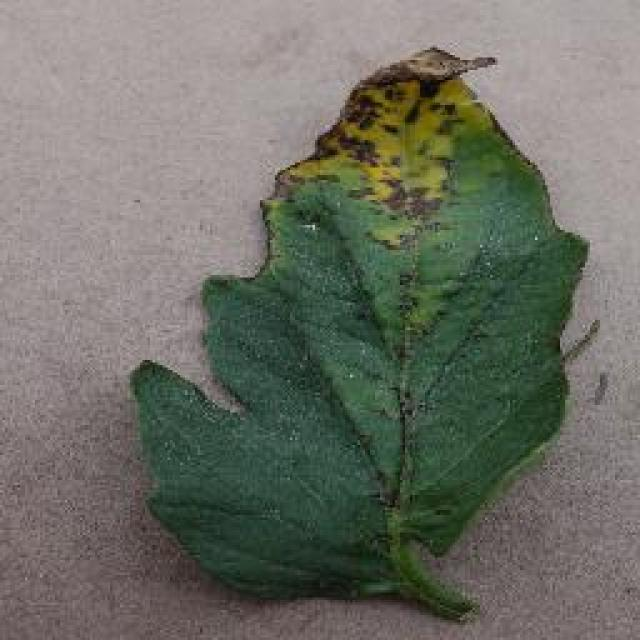Tomato___Bacterial_spot: (122, 46, 605, 628)
